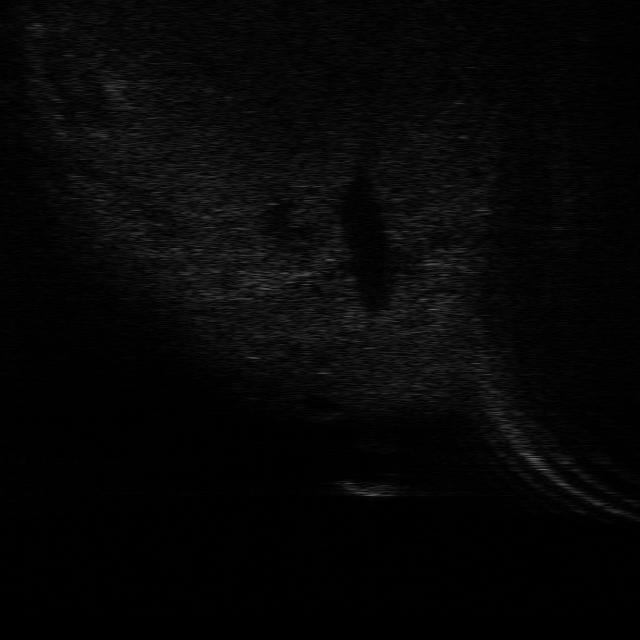cube: (335, 478, 405, 498)
